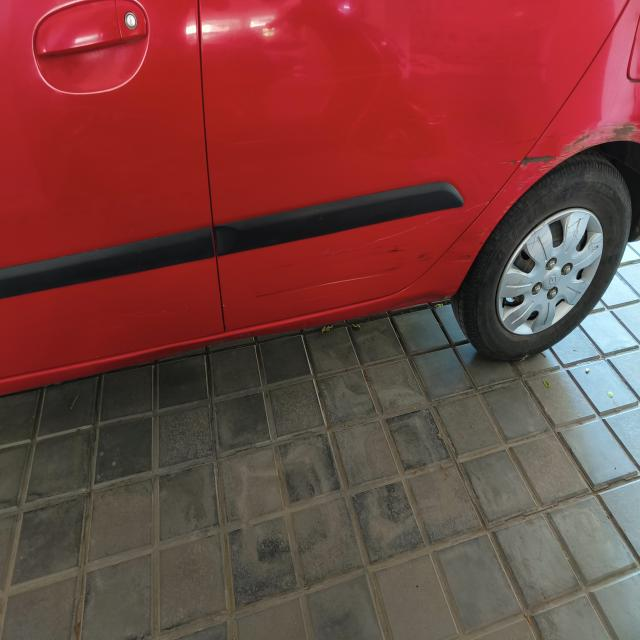scratch: (255, 222, 497, 306), (486, 114, 638, 173), (464, 175, 547, 219)
